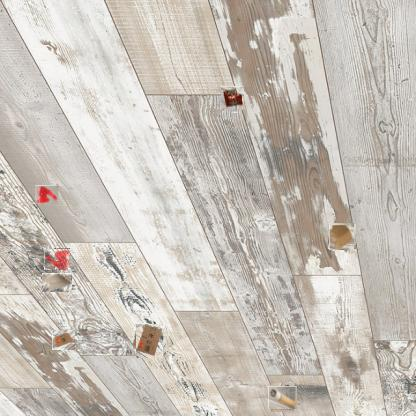dirty: (134, 326, 164, 356), (329, 223, 355, 250), (270, 384, 296, 410), (42, 273, 72, 292), (221, 86, 244, 110), (52, 330, 75, 350)
liquid: (44, 248, 70, 270), (34, 185, 58, 204)
